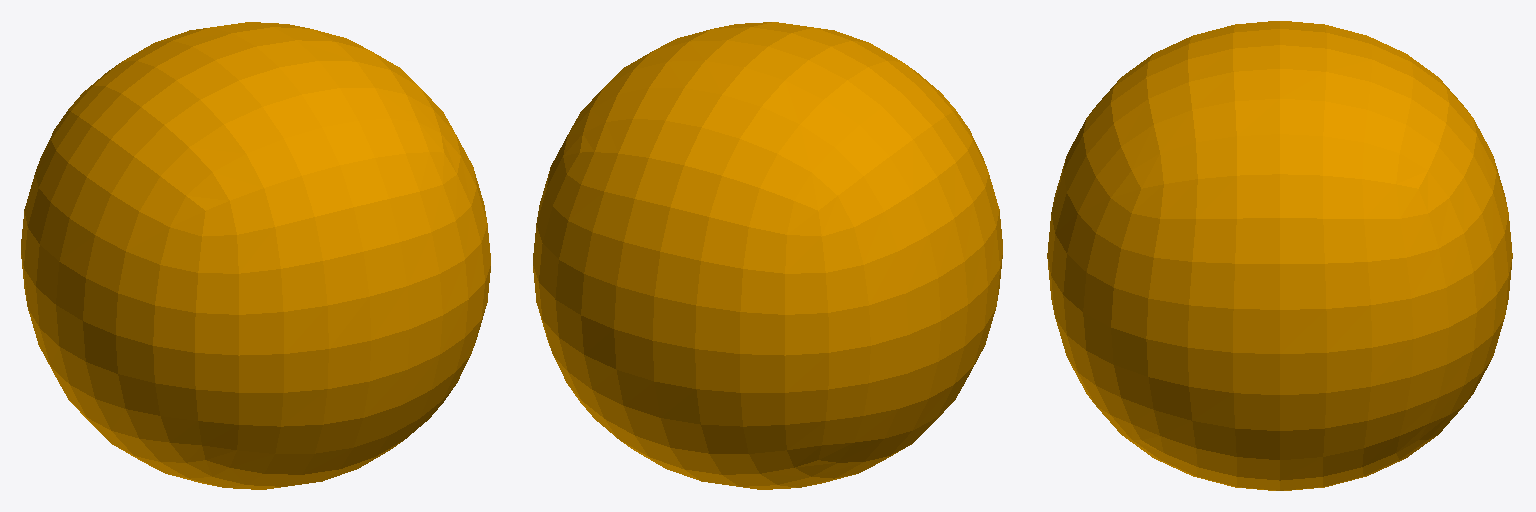
URDF robot description (orange_left):
<?xml version="1.0"?>
<robot name="orange_left">
  <link name="body">
    <visual>
      <origin xyz="0 0 0" rpy="1.57079632679 0 0"/>
      <geometry>
        <mesh filename="../meshes/orange/orange_left.obj" scale="1 1 1"/>
      </geometry>
    </visual>
    <collision>
      <origin xyz="0 0 0" rpy="1.57079632679 0 0"/>
      <geometry>
        <mesh filename="../meshes/orange/orange_left.obj" scale="1 1 1"/>
      </geometry>
    </collision>
    <inertial>
      <mass value="1.0"/>
      <inertia ixx="0.01" ixy="0.0" ixz="0.0"
              iyy="0.01" iyz="0.0" izz="0.01"/>
    </inertial>
  </link>
</robot>

--- Render facts (derived) ---
Views: 3 orthographic renders of the robot side by side, from view 1: azimuth 30°, elevation 25°; view 2: azimuth 150°, elevation 25°; view 3: azimuth 270°, elevation 25°.
Robot: orange_left — 1 links, 0 joints (none); root link body; default pose: all joints at 0.
Links seen in each view (by area): view 1: body; view 2: body; view 3: body.
Link boxes in pixels (box(x1,y1,x2,y2)): body: box(21, 22, 490, 489); body: box(533, 22, 1002, 489); body: box(1047, 21, 1512, 490).
Bounding box of the posed robot: 0.171 × 0.171 × 0.171 m (x, y, z).
1 mesh visuals loaded from 1 distinct referenced files (1 OBJ).
